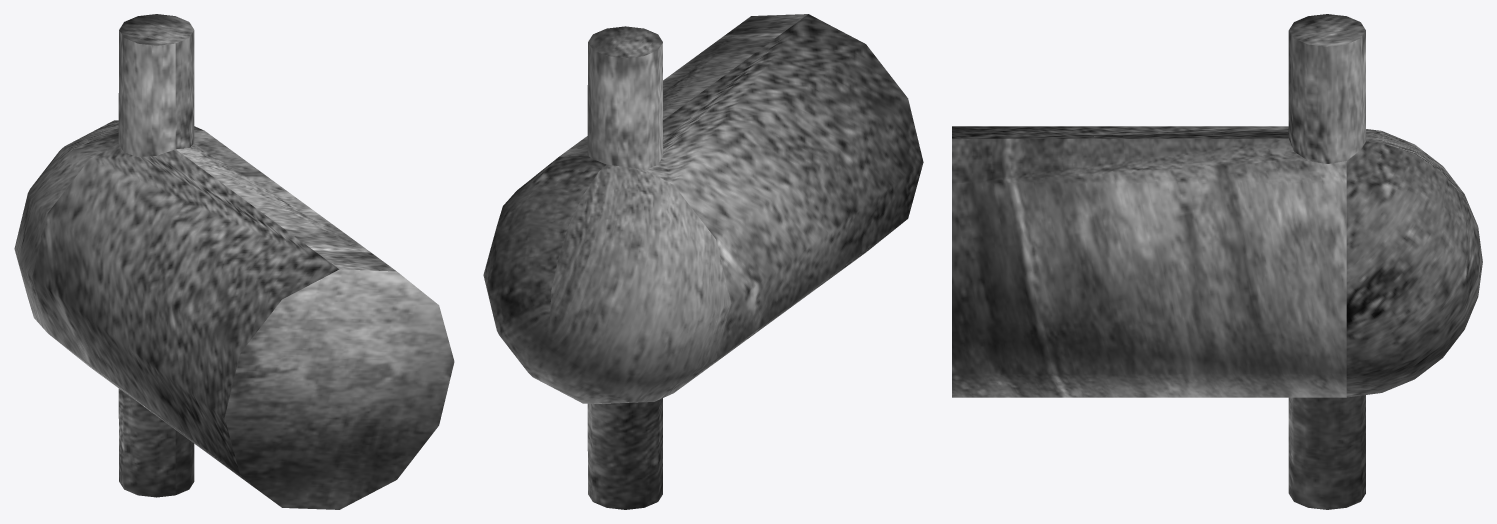
File: WallGunTurret.obj
3 views of the same model, side by side, from view 1: azimuth 30°, elevation 25°; view 2: azimuth 150°, elevation 25°; view 3: azimuth 270°, elevation 25° (orthographic). The views are drawn at different scales.
Parts seen in each view (by area): view 1: Cube.002; view 2: Cube.002; view 3: Cube.002.
Part boxes in pixels (<box>): Cube.002: <box>14,14,454,509</box>; Cube.002: <box>483,14,923,509</box>; Cube.002: <box>952,14,1482,509</box>.
Size of the model in its own units: 2 by 3.76 by 3.9.
Materials: 1 (1 with a texture image).
